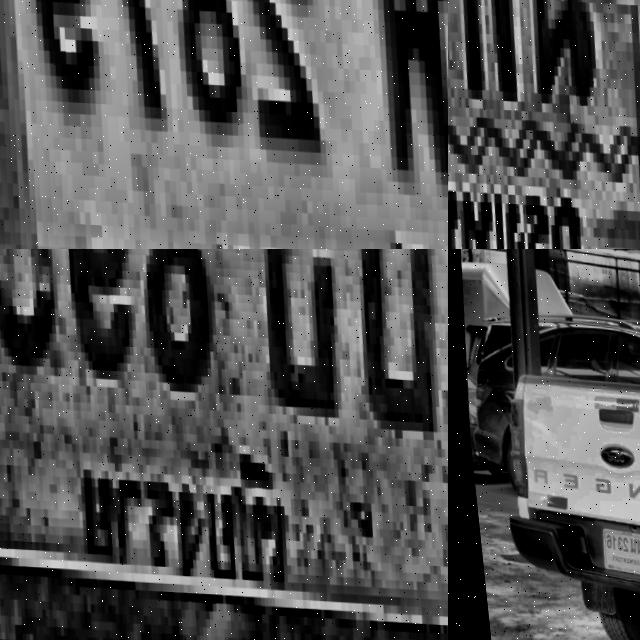license-plate: (0, 249, 448, 640), (0, 0, 448, 249), (448, 0, 640, 249), (583, 521, 640, 581)
